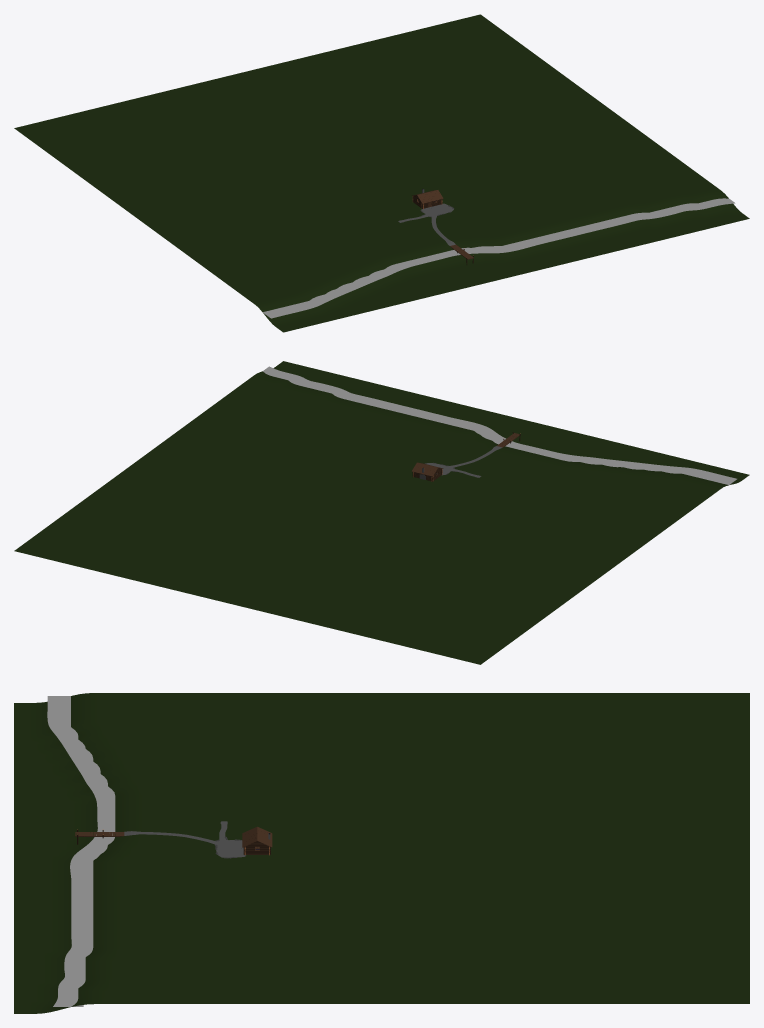
The model's file is s_mainlevel.FBX.
3 renders of one model, top to bottom at view 1: azimuth 30°, elevation 25°; view 2: azimuth 150°, elevation 25°; view 3: azimuth 270°, elevation 25°, orthographic. The views are drawn at different scales.
Parts seen in each view (by area): view 1: s_terrain, s_lake; view 2: s_terrain, s_lake; view 3: s_terrain, s_lake, s_path.
Boxes of the visible parts, box(x1,y1,x2,y2) form: s_terrain: box(14, 14, 749, 332); s_lake: box(261, 198, 735, 318); s_terrain: box(14, 361, 749, 664); s_lake: box(262, 366, 736, 485); s_terrain: box(14, 693, 749, 1013); s_lake: box(47, 696, 115, 1006); s_path: box(124, 821, 245, 857).
Bounding box in the file's own units: 150 × 5.74 × 150.
